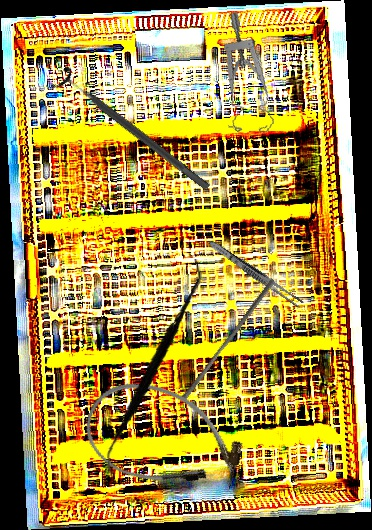Cannula: (73, 366, 255, 512)
Dressing Forceps: (205, 237, 306, 310)
Fixation Ring: (50, 63, 217, 200)
Pusher: (180, 274, 276, 405)
Spatula Surgical: (82, 258, 222, 472)
Speculum: (203, 10, 297, 140)
